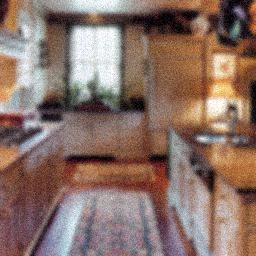Electrodomestico: (189, 155, 213, 255), (2, 125, 46, 151)
Lavaplatos: (192, 121, 248, 148)
